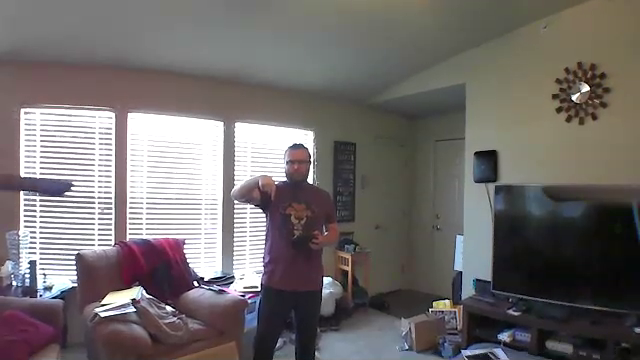down: (255, 172, 280, 207)
